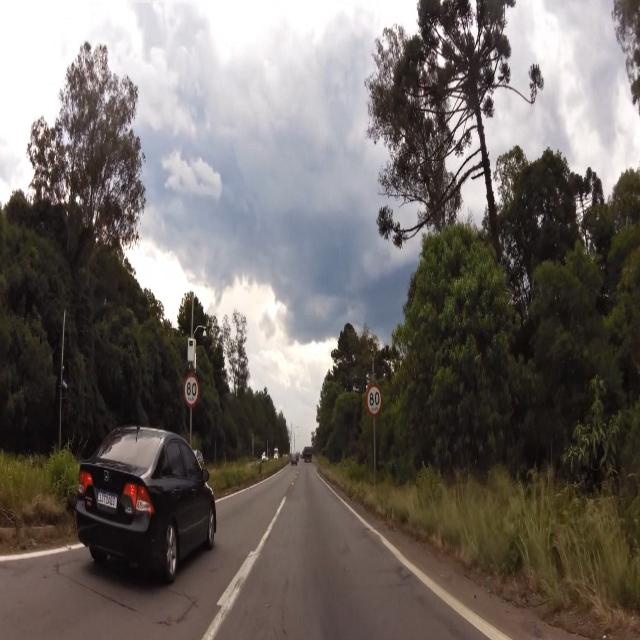R-19: (366, 382, 384, 416), (185, 373, 198, 409)
